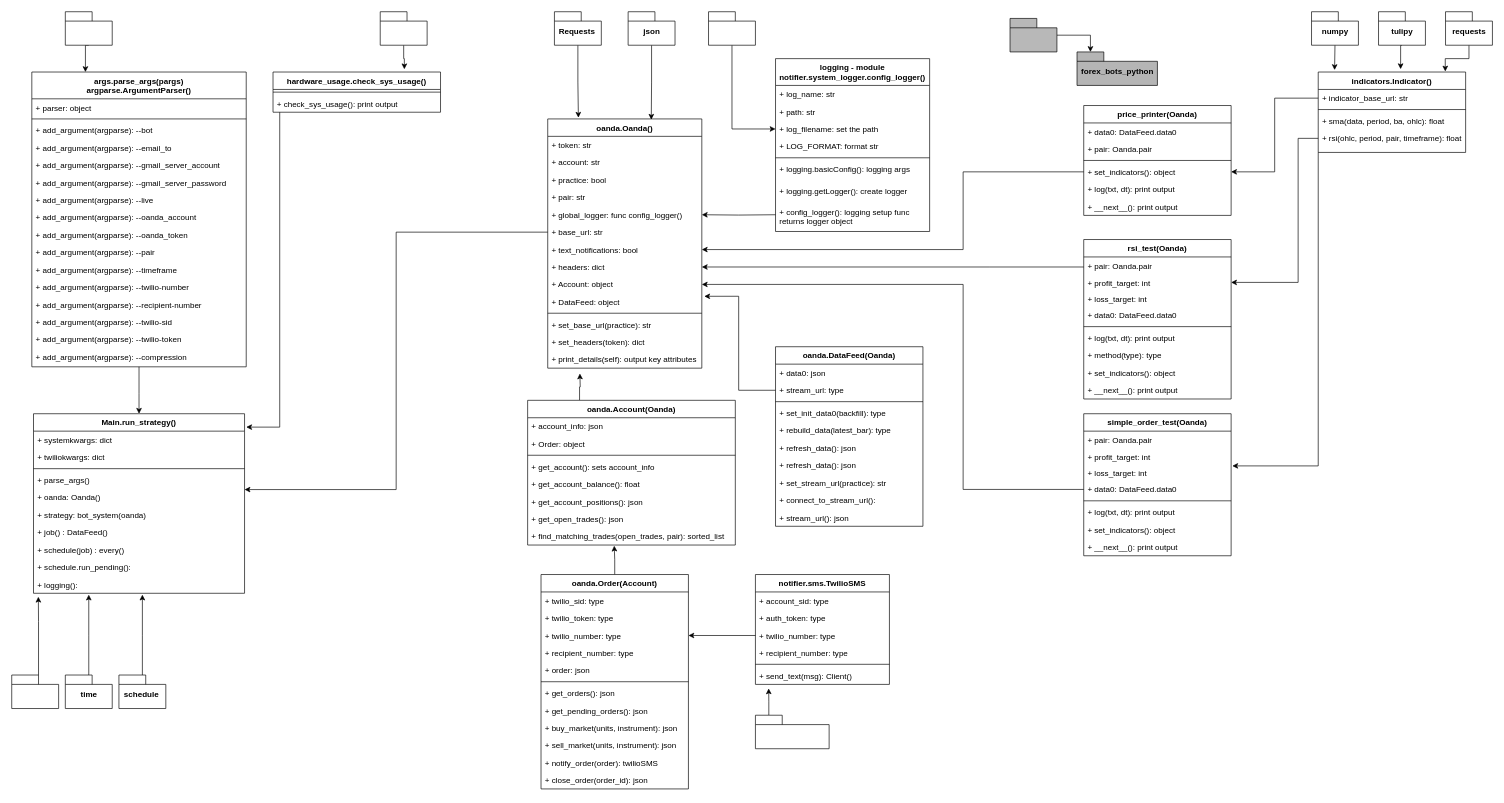
Some shapes in this 1504 by 803 pixel diagram are drawn without their labels. Each missing label, with the centre of its shape:
"argparse" belongs at point (88, 28).
"io.StringIO" belongs at point (35, 691).
"os" belongs at point (731, 28).
"psutil" belongs at point (403, 28).
"Strategies" belongs at point (1033, 35).
"twilio.rest.Client" belongs at point (792, 732).
